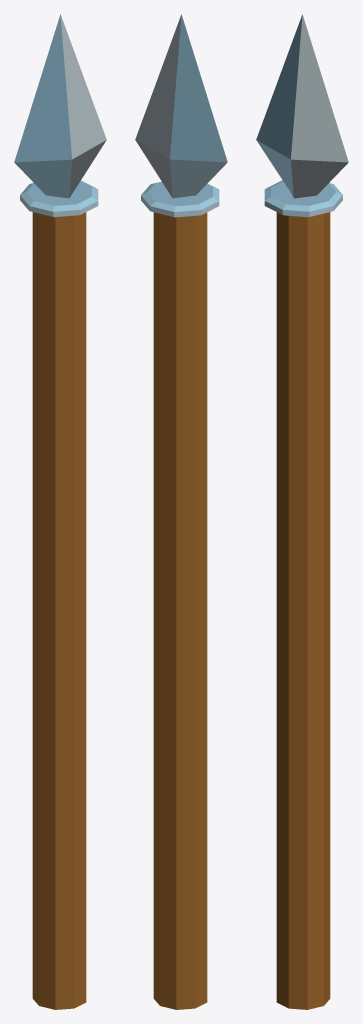
File: Lanca.fbx
3 renders of one model, left to right at view 1: azimuth 30°, elevation 25°; view 2: azimuth 150°, elevation 25°; view 3: azimuth 330°, elevation 25°, orthographic.
Parts seen in each view (by area): view 1: Lanca; view 2: Lanca; view 3: Lanca.
Part boxes in pixels (x1=…): Lanca: x1=14, y1=14, x2=106, y2=1009; Lanca: x1=135, y1=14, x2=227, y2=1009; Lanca: x1=256, y1=14, x2=348, y2=1009.
Bounding box in the file's own units: 0.6971 × 0.5097 × 7.08.
